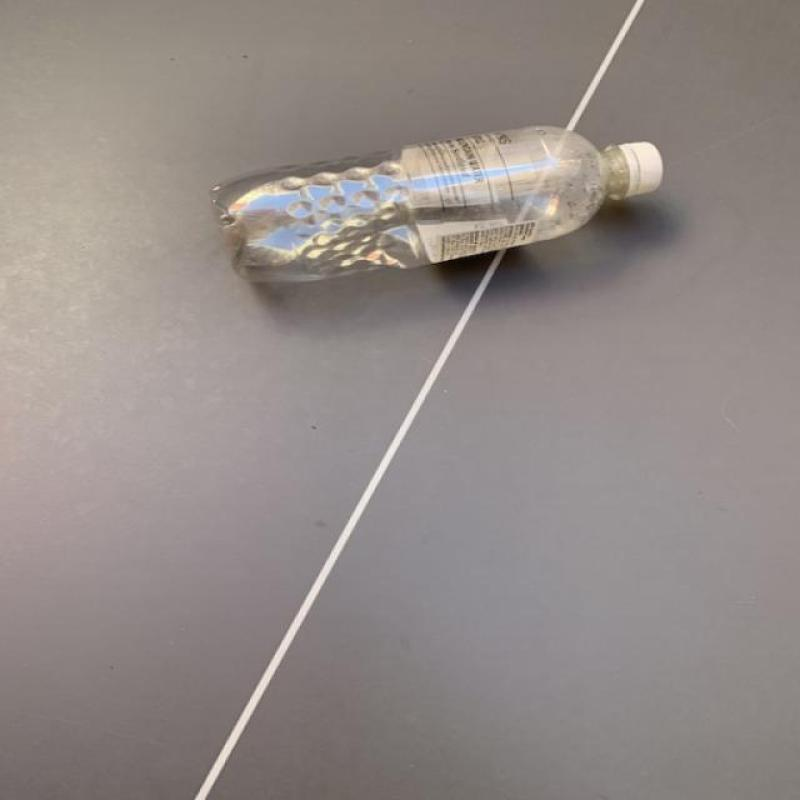botella: (210, 124, 662, 281)
